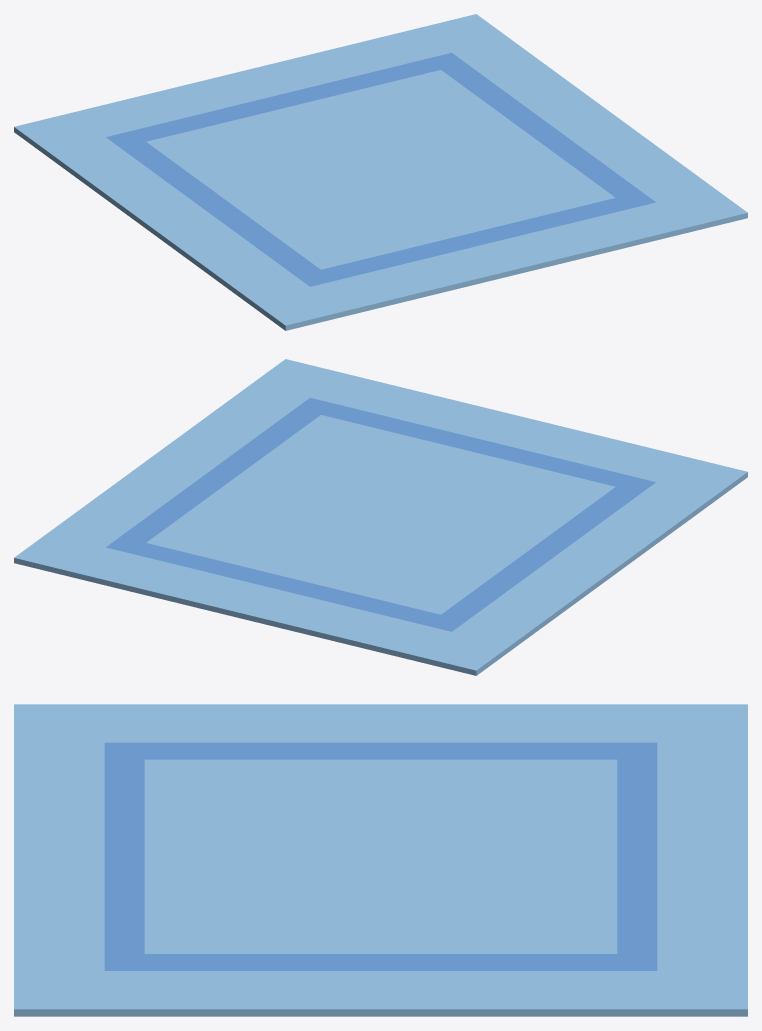
Rendered from Living_Playpen.glb.
3 renders of one model, top to bottom at view 1: azimuth 30°, elevation 25°; view 2: azimuth 150°, elevation 25°; view 3: azimuth 270°, elevation 25°, orthographic. The views are drawn at different scales.
Parts seen in each view (by area): view 1: Living_Playpen; view 2: Living_Playpen; view 3: Living_Playpen.
Boxes of the visible parts, <box> form: Living_Playpen: <box>14,14,747,330</box>; Living_Playpen: <box>14,359,747,675</box>; Living_Playpen: <box>14,704,747,1016</box>.
Bounding box in the file's own units: 0.9043 × 0.01 × 0.92.
